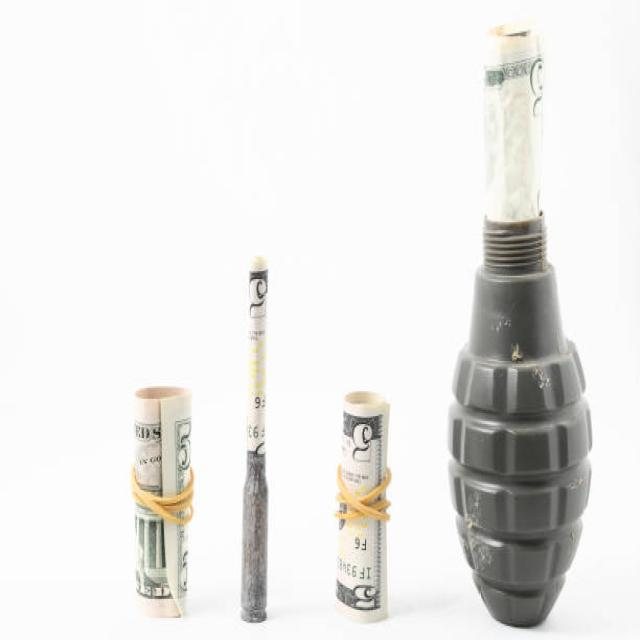grenade: (445, 210, 600, 633)
